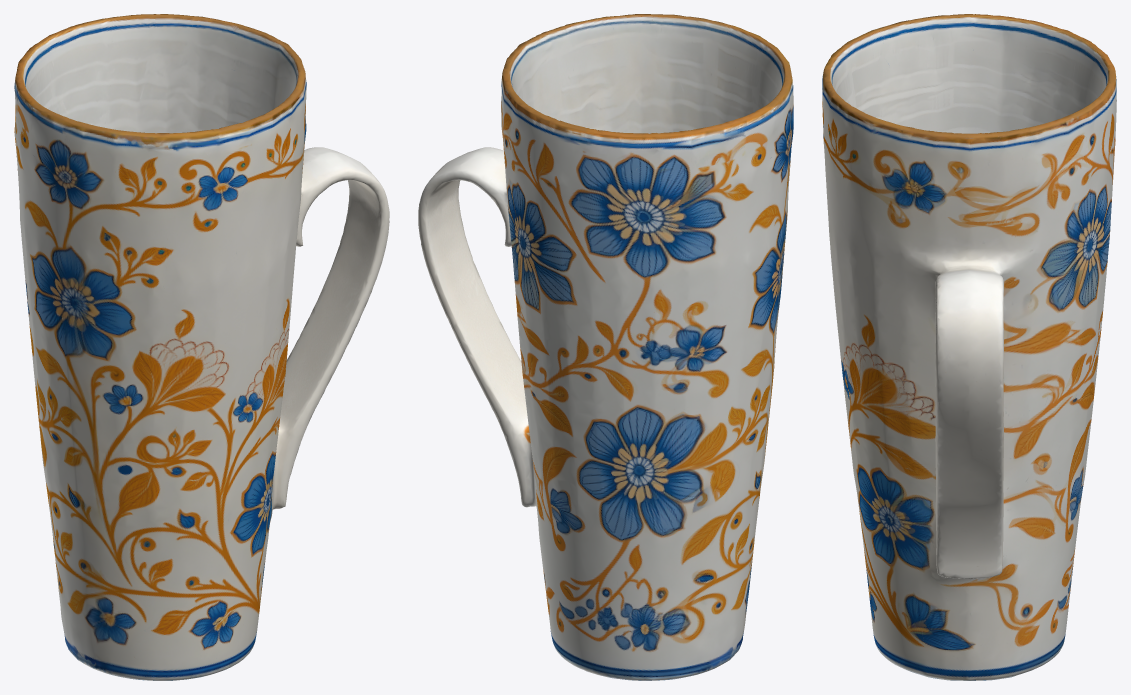
File: cousin_4.glb
3 views of the same model, side by side, from view 1: azimuth 30°, elevation 25°; view 2: azimuth 150°, elevation 25°; view 3: azimuth 270°, elevation 25° (orthographic).
Size of the model in its own units: 1.22 by 1.91 by 0.8981.
1 material, 1 textured.
